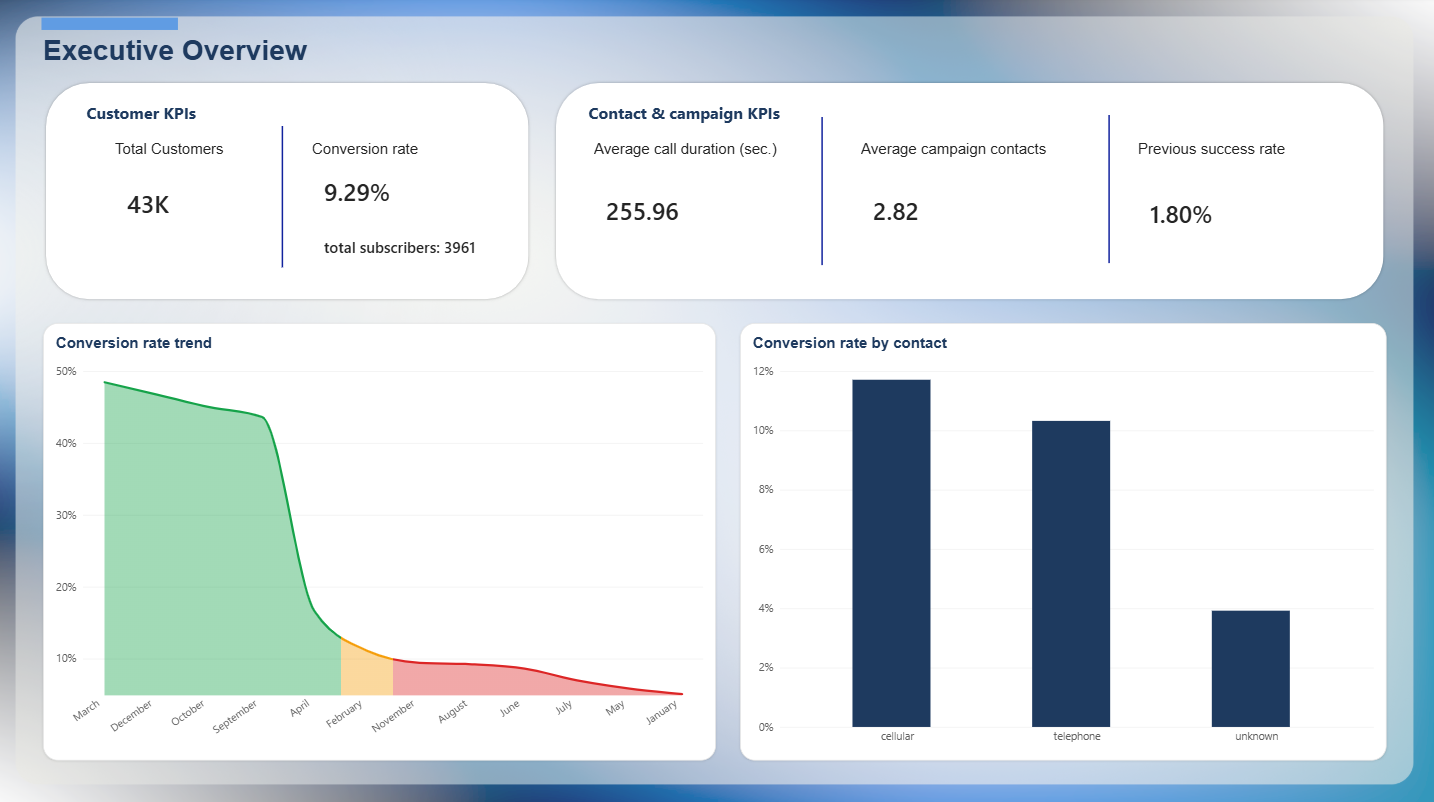

What the dashboard file says about the page in this screenshot:
{"tool":"powerbi","page":{"name":"Overview","canvas":[1920,1080],"ordinal":1},"visuals":[{"type":"shape","box":[744.3,110,1108.6,295.7],"z":0},{"type":"textbox","box":[66.5,49.2,715.6,61.2],"z":1000},{"type":"shape","box":[65.9,110.3,649.7,295.7],"z":2000},{"type":"cardVisual","title":"Total Customers","fields":{"Data":["_measurements.total_customers"]},"box":[161.9,189.7,189.7,144.4],"z":3000},{"type":"cardVisual","title":"Conversion rate","fields":{"Data":["_measurements.conversion_rate"]},"box":[424.6,189.7,255.3,205.7],"z":4000},{"type":"cardVisual","title":"Average campaign contacts","fields":{"Data":["_measurements.avg_campaign_contacts"]},"box":[1154,189.7,262.6,164.9],"z":5000},{"type":"shape","box":[379.3,172.2,11.7,188.2],"z":6000},{"type":"shape","box":[1078.2,159,48.1,197],"z":6001},{"type":"textbox","box":[113.8,140.1,182.4,62.7],"z":6002},{"type":"cardVisual","title":"Previous success rate","fields":{"Data":["_measurements.previous_success_rate"]},"box":[1523.2,189.7,267,154.7],"z":6003},{"type":"cardVisual","title":"Average call duration (sec.)","fields":{"Data":["_measurements.avg_call_duration_sec"]},"box":[799.5,189.7,267,164.9],"z":6004},{"type":"areaChart","title":"Conversion rate trend","fields":{"Category":["_calendar.Month"],"Y":["_measurements.conversion_rate"]},"box":[65.9,433.6,894.9,582.3],"z":6005},{"type":"columnChart","title":"Conversion rate by contact","fields":{"Category":["F_bankcustomerdata.contact"],"Y":["_measurements.conversion_rate"]},"box":[992.9,433.6,859.6,582.3],"z":6006},{"type":"textbox","box":[782.5,140,296.2,62.5],"z":6007},{"type":"shape","box":[1460.4,157.6,48.1,197],"z":6008}]}

Visuals, with their boxes in screenshot pixels (x1, y1, x2, y2), scaled from the page's 1920x1080 canvas onto the 1434x802 screenshot:
shape: crop(556, 82, 1384, 301)
textbox: crop(50, 37, 584, 82)
shape: crop(49, 82, 534, 301)
"Total Customers" cardVisual: crop(121, 141, 263, 248)
"Conversion rate" cardVisual: crop(317, 141, 508, 294)
"Average campaign contacts" cardVisual: crop(862, 141, 1058, 263)
shape: crop(283, 128, 292, 268)
shape: crop(805, 118, 841, 264)
textbox: crop(85, 104, 221, 151)
"Previous success rate" cardVisual: crop(1138, 141, 1337, 256)
"Average call duration (sec.)" cardVisual: crop(597, 141, 797, 263)
"Conversion rate trend" areaChart: crop(49, 322, 718, 754)
"Conversion rate by contact" columnChart: crop(742, 322, 1384, 754)
textbox: crop(584, 104, 806, 150)
shape: crop(1091, 117, 1127, 263)
